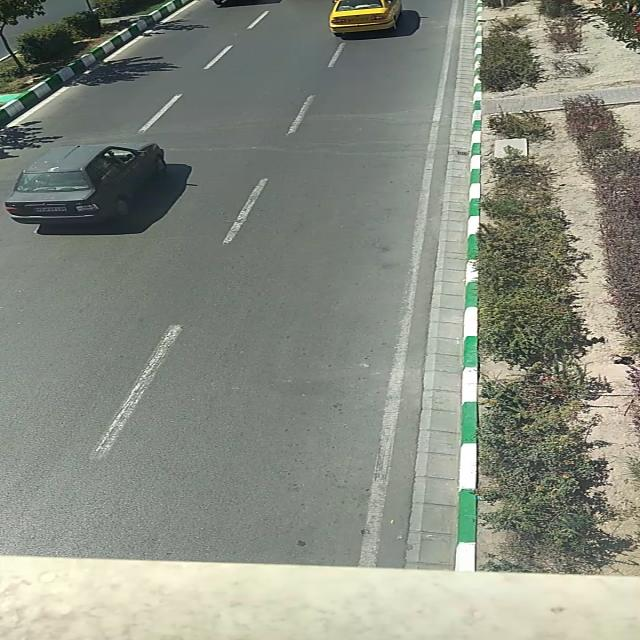car: (3, 140, 164, 224), (327, 2, 403, 36)
